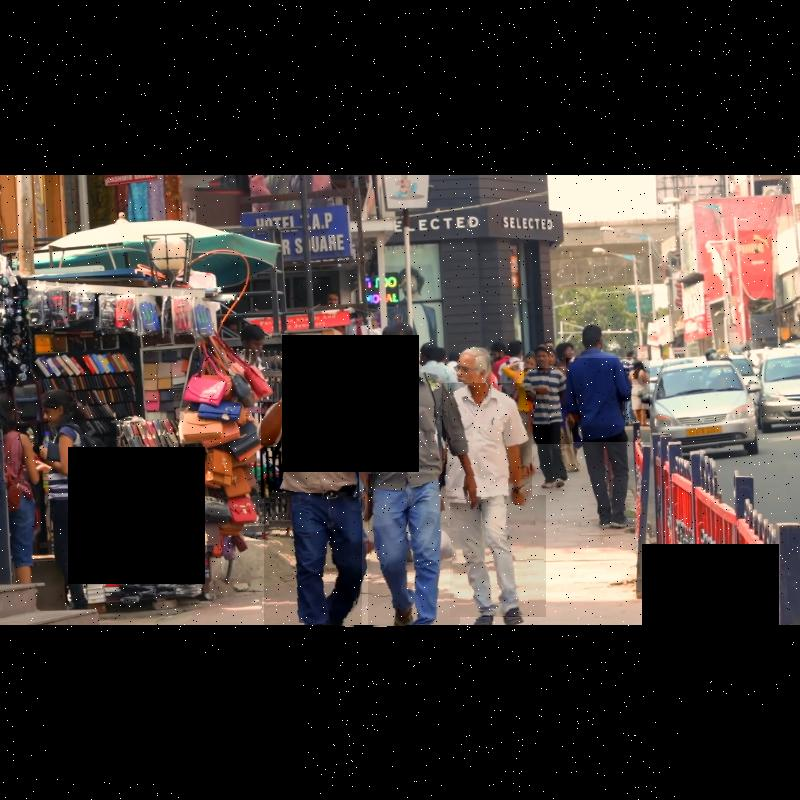Jeans: (368, 474, 460, 626), (264, 492, 362, 626)
Pant: (450, 495, 546, 617)
Shirt: (361, 381, 467, 487), (442, 383, 532, 498), (261, 402, 359, 498), (566, 358, 650, 442)
Tshirt: (524, 368, 572, 444)
